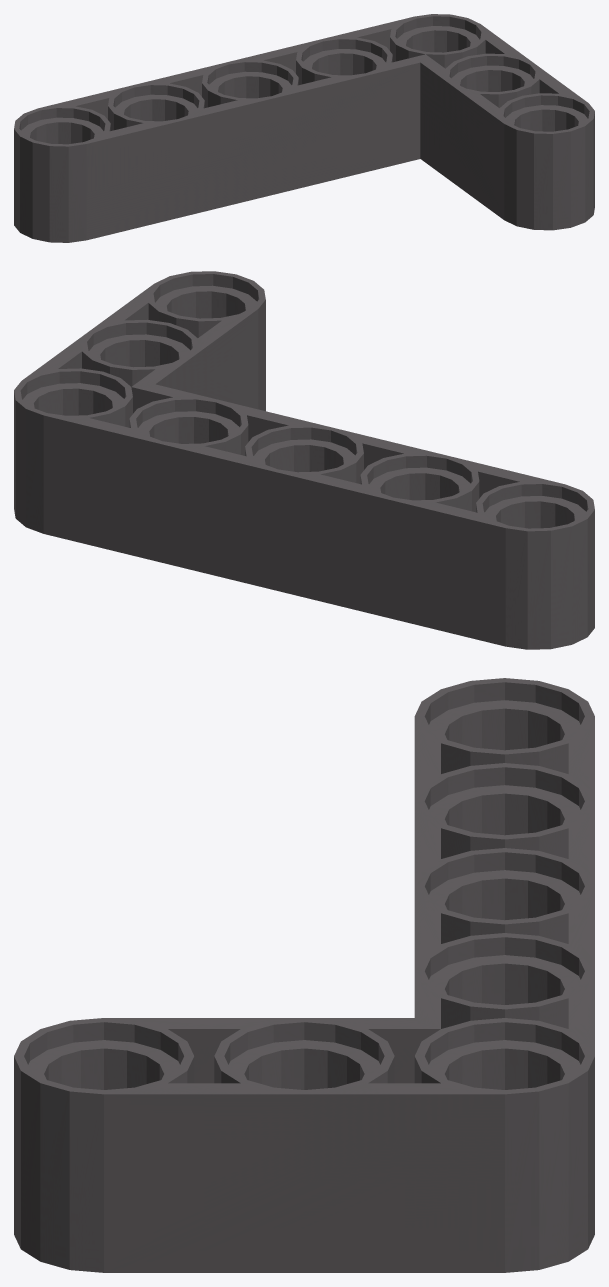
The model's file is ang_beam_5x3_90_deg.dae.
3 renders of one model, top to bottom at view 1: azimuth 30°, elevation 25°; view 2: azimuth 150°, elevation 25°; view 3: azimuth 270°, elevation 25°, orthographic. The views are drawn at different scales.
Visible parts, largest first — view 1: node; view 2: node; view 3: node.
Part boxes in pixels (x1=…): node: x1=14, y1=14, x2=594, y2=242; node: x1=14, y1=271, x2=594, y2=649; node: x1=14, y1=678, x2=594, y2=1272.
Size of the model in its own units: 97.5 by 19.5 by 57.5.
Materials: 1 (1 with a texture image).
